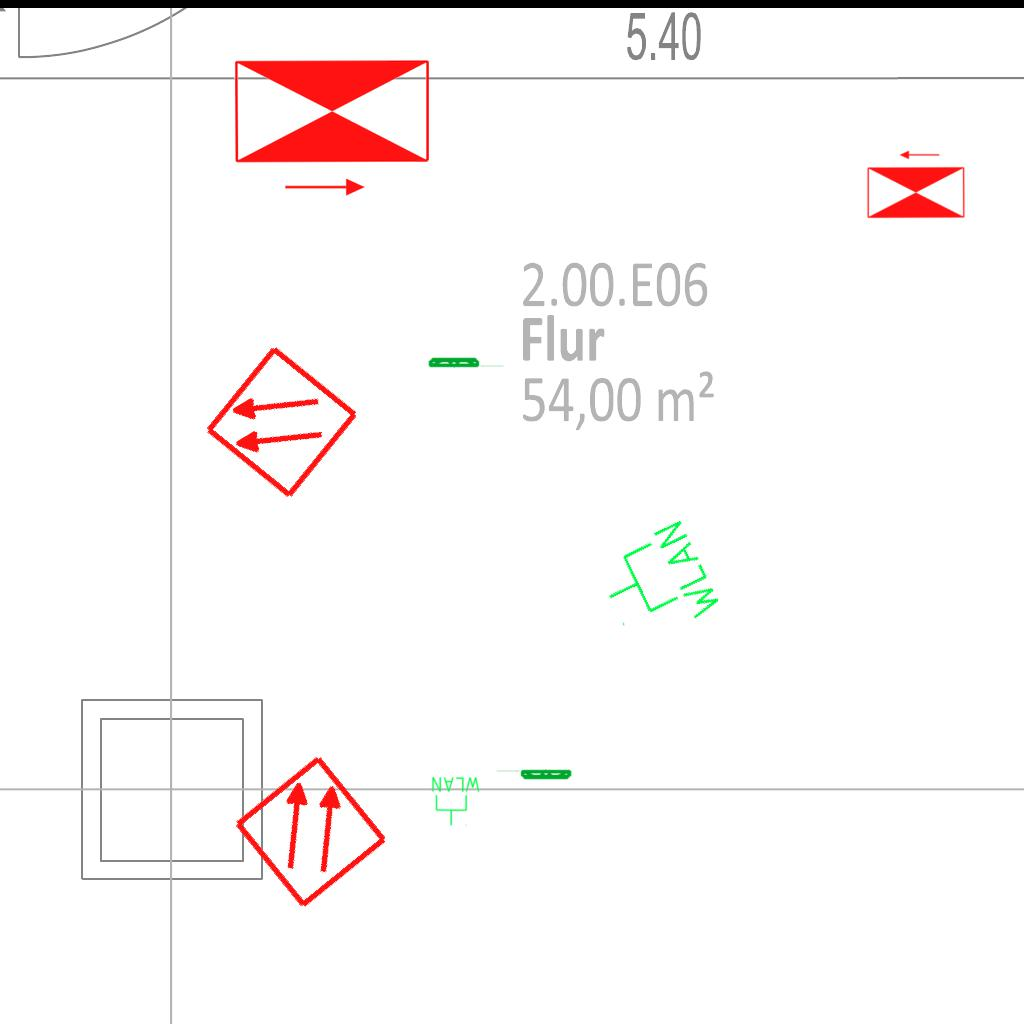Fluchtwegpiktogramm: (228, 54, 436, 201), (864, 148, 968, 221)
RMO_Rauchmelder_optischer: (202, 343, 361, 502), (231, 752, 390, 911)
Sicherheitsleuchte_Wandeinbau: (494, 769, 573, 781), (427, 356, 506, 368)
WLAN: (588, 514, 728, 655), (430, 775, 482, 827)
